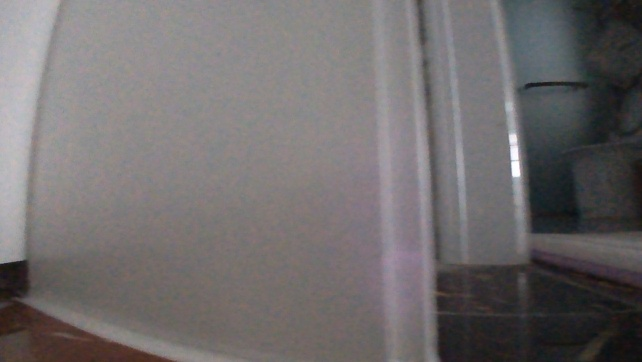blanket: (523, 223, 641, 289)
toilet: (564, 136, 641, 228)
